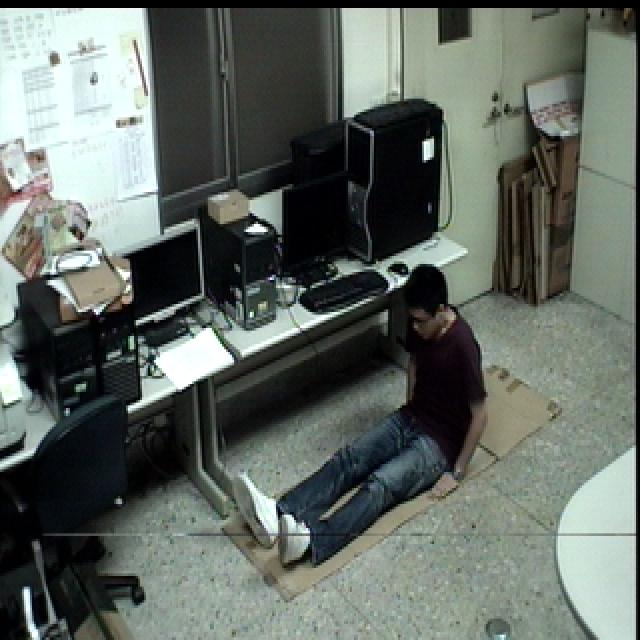sit: (222, 256, 491, 569)
